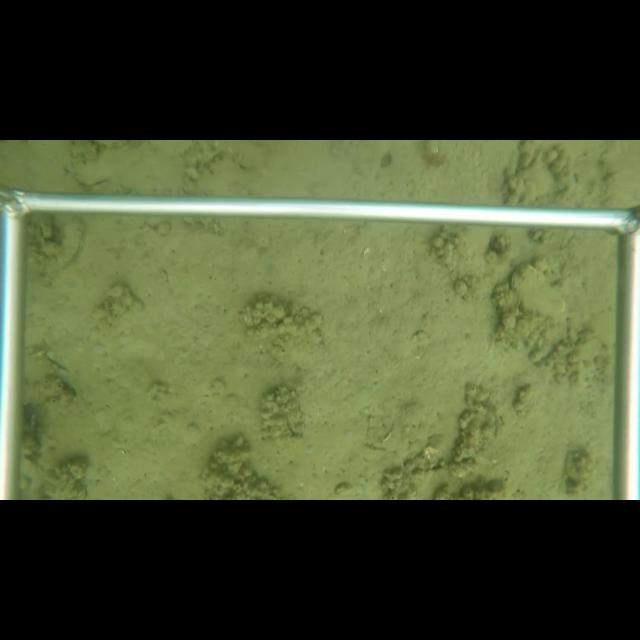Oyster-Closed: (507, 263, 567, 323), (39, 219, 85, 280), (68, 160, 112, 191)
